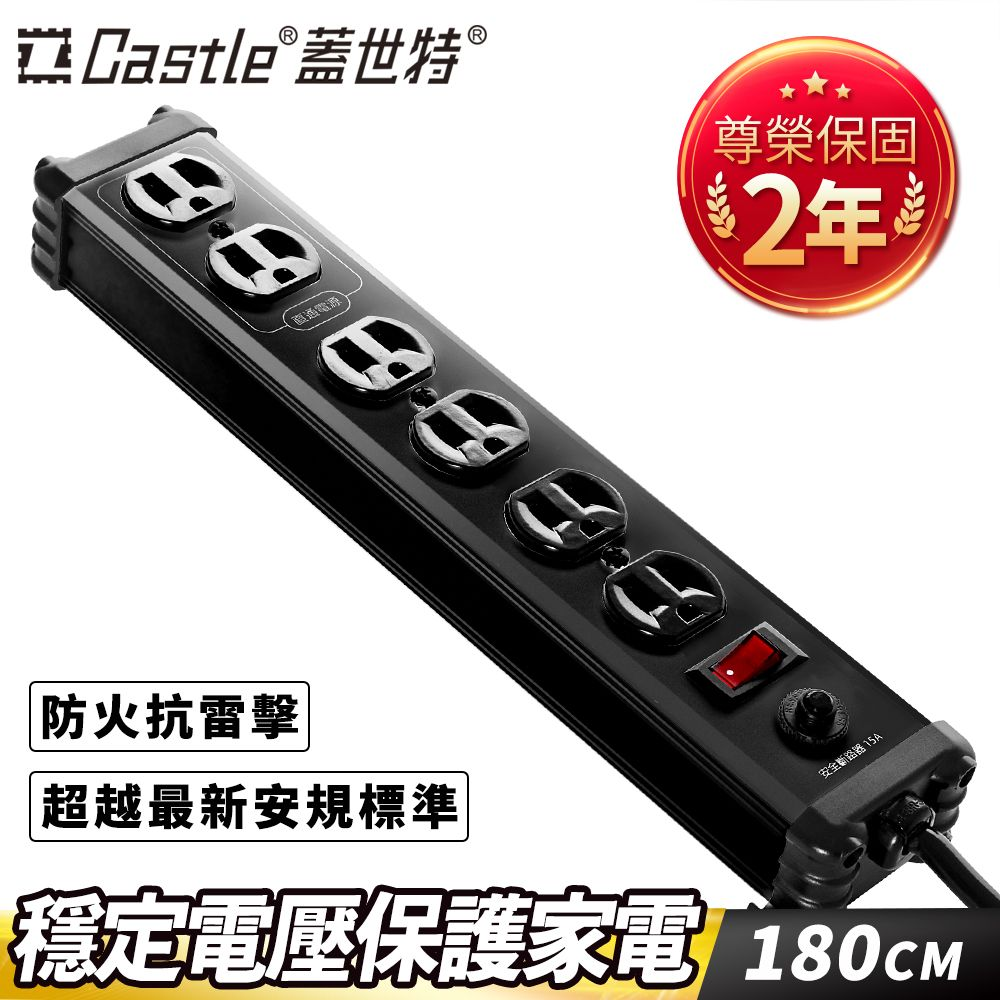socket: (29, 104, 977, 913)
